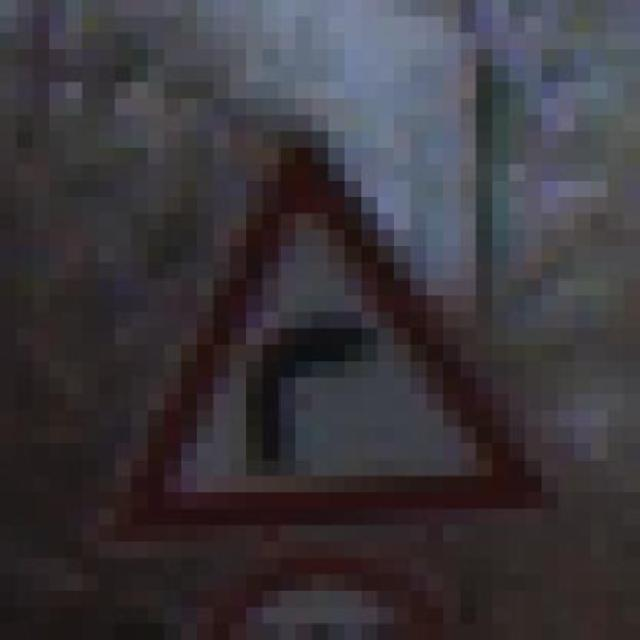Dangerous Rright Curve Ahead: (82, 132, 575, 526)
